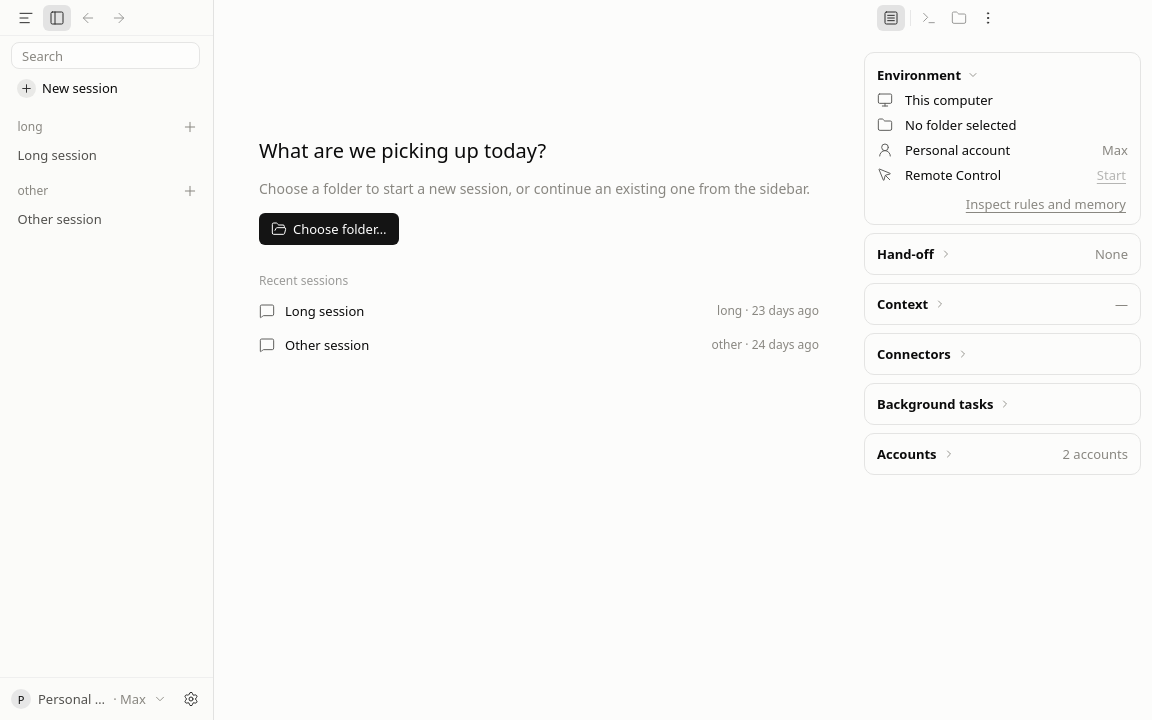
Test: Load earlier messages › waits while the latest page reloads
Click the button "Long session".
click(106, 155)  # box [7,141,206,169]
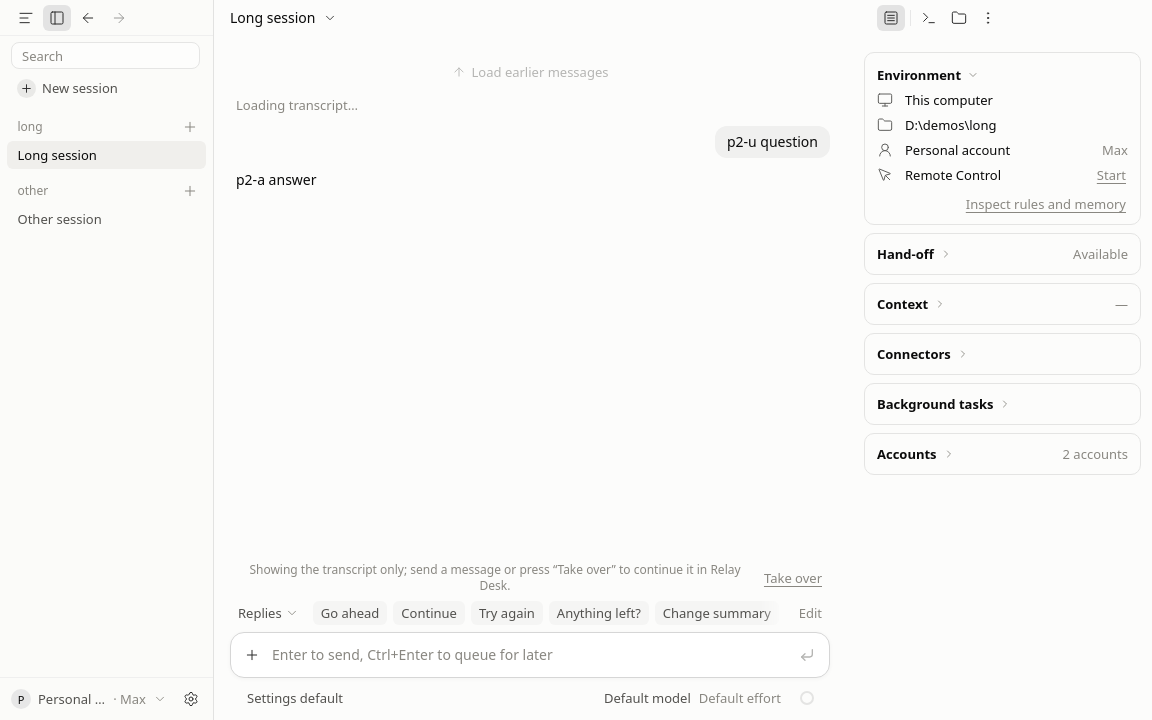
Result: the text "p2-a answer" is shown at [236,170,316,189]
Click the button "Load earlier messages".
click(530, 72)  # box [444,60,616,84]
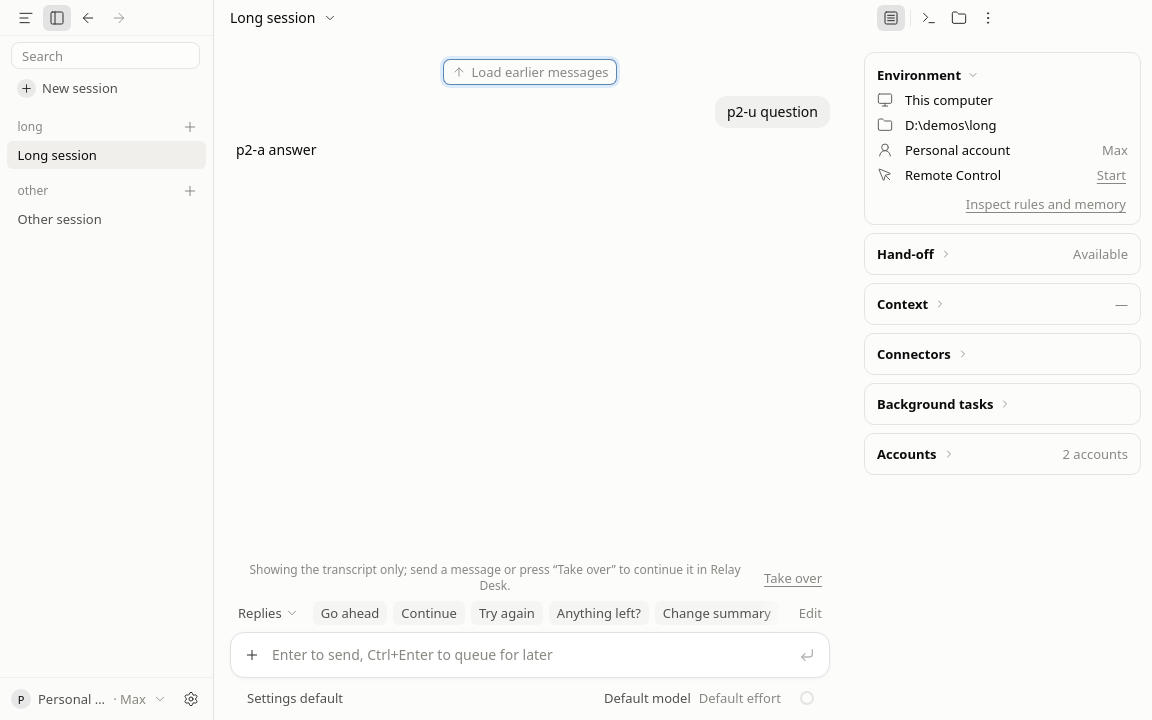
Result: the button "Load earlier messages" does not have attribute aria-disabled
Click the button "Load earlier messages".
click(530, 72)  # box [444,60,616,84]
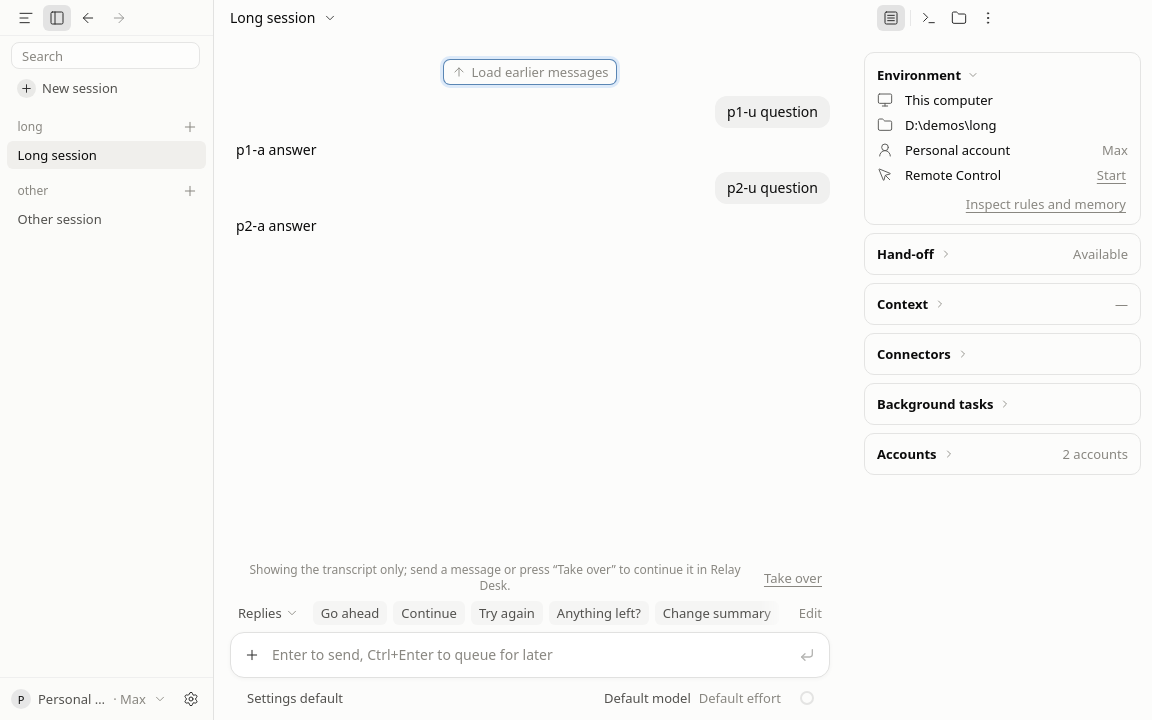
Result: the text "p1-a answer" is shown at [236,140,316,159]
